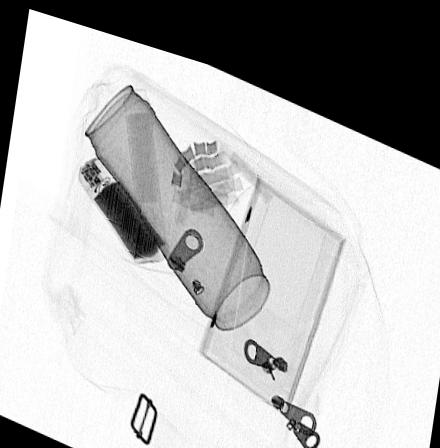Powerbank: (77, 147, 169, 258)
